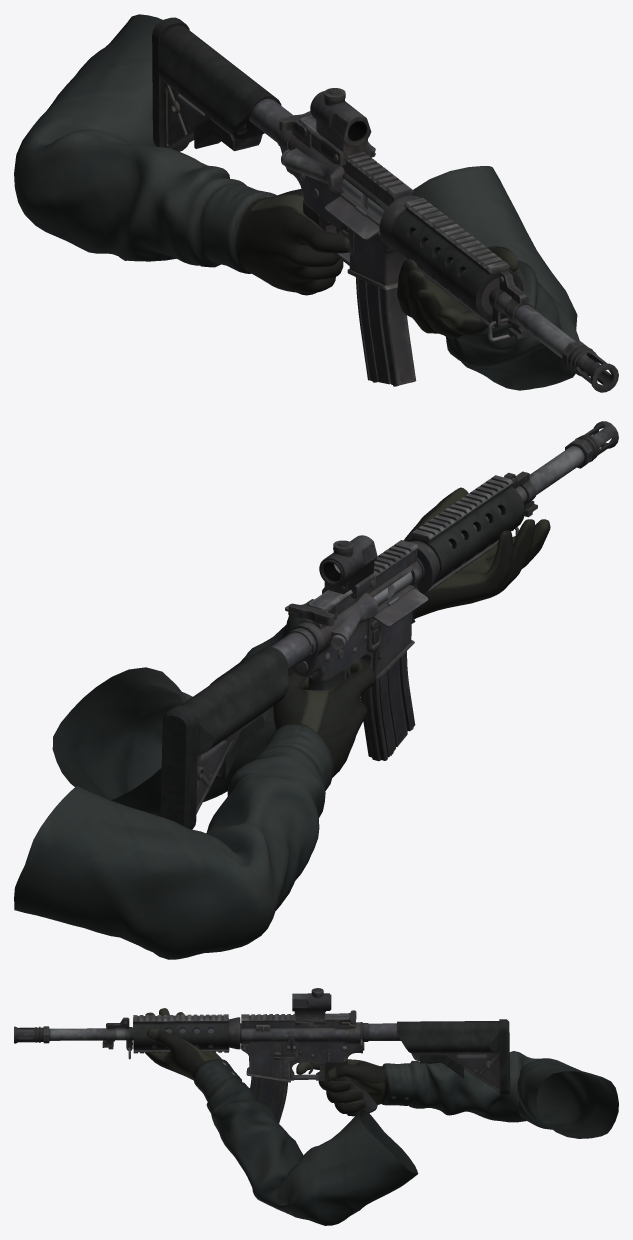
The model's file is gun_000053.obj.
3 views of the same model, one above another, from view 1: azimuth 30°, elevation 25°; view 2: azimuth 150°, elevation 25°; view 3: azimuth 270°, elevation 25° (orthographic). The views are drawn at different scales.
Parts seen in each view (by area): view 1: armmesh_arms_0, base_carbine_0, clip_carbine_0, scope_carbine_0, lid_carbine_0, bolt_carbine_0; view 2: armmesh_arms_0, base_carbine_0, clip_carbine_0, scope_carbine_0, lid_carbine_0, handle_carbine_0; view 3: armmesh_arms_0, base_carbine_0, scope_carbine_0, clip_carbine_0.
Part boxes in pixels (box(x1,y1,x2,y2)): armmesh_arms_0: box(14, 14, 579, 390); base_carbine_0: box(152, 17, 618, 392); clip_carbine_0: box(355, 277, 416, 386); scope_carbine_0: box(310, 88, 375, 165); lid_carbine_0: box(325, 196, 379, 239); bolt_carbine_0: box(342, 179, 383, 219); armmesh_arms_0: box(14, 487, 550, 959); base_carbine_0: box(160, 421, 618, 829); clip_carbine_0: box(360, 651, 415, 761); scope_carbine_0: box(319, 535, 377, 598); lid_carbine_0: box(373, 588, 428, 627); handle_carbine_0: box(288, 599, 336, 626); armmesh_arms_0: box(144, 1008, 618, 1225); base_carbine_0: box(14, 1013, 510, 1116); scope_carbine_0: box(292, 988, 331, 1026); clip_carbine_0: box(250, 1076, 287, 1123).
Bounding box in the file's own units: 45.37 × 40.95 × 123.
